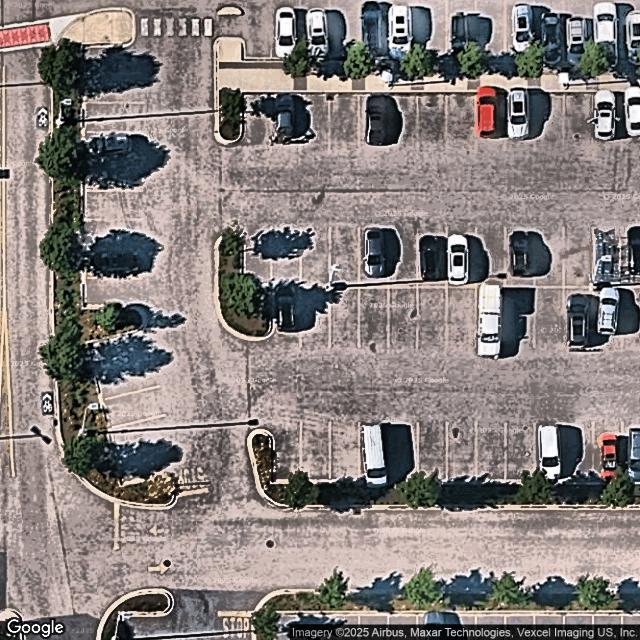car: (477, 282, 503, 361), (360, 422, 391, 488), (591, 1, 620, 68), (358, 0, 385, 60), (387, 2, 415, 59), (474, 84, 500, 144), (567, 291, 593, 348), (538, 424, 562, 482), (510, 2, 536, 55), (274, 4, 299, 59), (537, 11, 562, 66), (272, 284, 300, 333), (591, 88, 617, 140), (364, 93, 389, 147), (417, 233, 444, 283), (506, 86, 530, 141), (305, 8, 330, 60), (363, 226, 388, 278), (565, 15, 589, 69), (447, 233, 471, 286), (596, 287, 621, 337), (93, 252, 143, 277), (507, 230, 531, 281), (599, 430, 621, 485), (86, 134, 132, 158), (274, 93, 296, 141), (448, 11, 470, 58), (622, 86, 640, 139), (423, 609, 452, 640), (625, 7, 640, 65), (625, 424, 640, 482)
lot_boundary: (81, 0, 639, 639)
objects: (216, 38, 639, 143), (248, 429, 639, 510), (253, 588, 639, 639), (217, 234, 274, 341), (594, 227, 640, 285), (83, 307, 146, 342)
stall: (88, 330, 150, 375), (93, 358, 158, 400), (102, 386, 164, 429), (108, 415, 170, 458), (116, 443, 170, 485), (83, 220, 143, 252), (83, 101, 144, 132), (84, 158, 144, 189), (84, 189, 144, 220), (448, 0, 479, 58), (507, 0, 538, 58), (447, 423, 476, 485), (537, 421, 566, 483), (506, 422, 535, 484), (417, 421, 446, 483), (330, 419, 359, 481), (301, 420, 330, 482), (477, 421, 506, 483), (593, 421, 622, 483), (330, 228, 360, 287), (299, 228, 329, 287), (360, 228, 390, 287), (447, 228, 477, 287), (503, 228, 533, 287), (533, 228, 563, 287), (388, 288, 418, 347), (359, 288, 389, 347), (534, 287, 564, 346), (478, 288, 508, 347), (83, 73, 144, 102), (358, 0, 388, 58), (386, 0, 416, 58), (417, 0, 447, 58), (298, 1, 328, 59), (388, 229, 418, 287), (417, 229, 447, 287), (563, 228, 593, 286), (329, 289, 359, 347), (242, 229, 272, 287), (271, 227, 301, 285), (446, 288, 476, 346), (417, 288, 447, 346), (299, 289, 329, 347), (388, 421, 416, 483), (362, 421, 390, 483), (274, 420, 302, 482), (566, 421, 594, 483), (329, 0, 358, 59), (563, 287, 592, 345), (84, 251, 144, 279), (477, 0, 505, 58), (272, 0, 300, 58), (477, 228, 505, 286), (594, 287, 622, 345), (506, 289, 534, 347), (273, 289, 300, 348), (537, 13, 565, 69), (562, 12, 590, 68), (592, 12, 620, 68), (245, 0, 271, 58), (83, 279, 143, 304), (81, 134, 143, 158), (300, 93, 330, 141), (503, 92, 533, 140), (268, 93, 298, 141), (83, 48, 145, 71), (418, 93, 448, 140), (329, 93, 359, 140), (475, 92, 505, 139), (564, 92, 594, 139), (535, 93, 565, 140), (359, 93, 389, 140), (389, 93, 419, 140), (242, 93, 270, 141), (593, 92, 621, 140), (448, 93, 476, 140), (619, 285, 640, 345), (619, 10, 640, 67), (623, 422, 640, 483), (620, 92, 640, 140), (417, 615, 446, 640), (447, 615, 476, 640), (477, 615, 506, 640), (534, 615, 563, 640), (564, 615, 593, 640), (594, 615, 623, 640), (305, 615, 334, 640), (359, 615, 388, 640), (330, 615, 359, 640), (279, 615, 308, 640), (506, 615, 534, 640), (388, 615, 416, 640), (623, 613, 640, 638)
